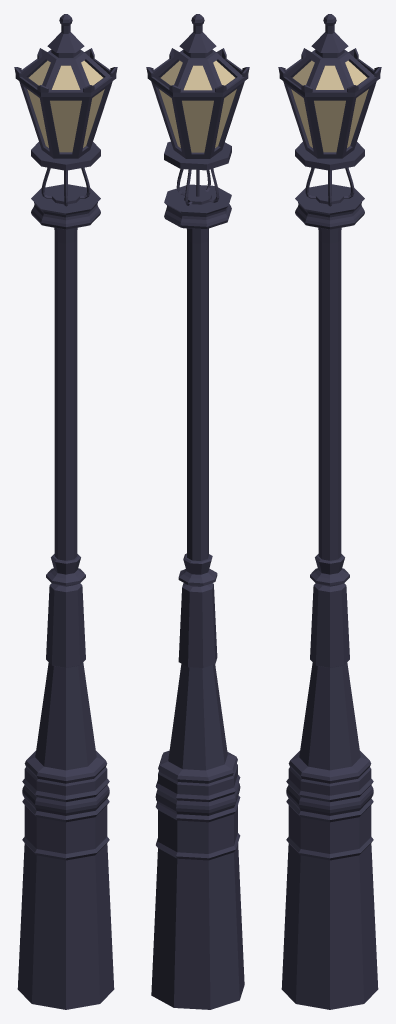
The model's file is lightpole.fbx.
3 views of the same model, side by side, from view 1: azimuth 90°, elevation 25°; view 2: azimuth 150°, elevation 25°; view 3: azimuth 270°, elevation 25° (orthographic).
Visible parts, largest first — view 1: Cylinder; view 2: Cylinder; view 3: Cylinder.
Boxes of the visible parts, x1=… form: Cylinder: x1=14, y1=14, x2=117, y2=1009; Cylinder: x1=146, y1=14, x2=249, y2=1009; Cylinder: x1=278, y1=14, x2=381, y2=1009.
Size of the model in its own units: 142 by 1583 by 152.
